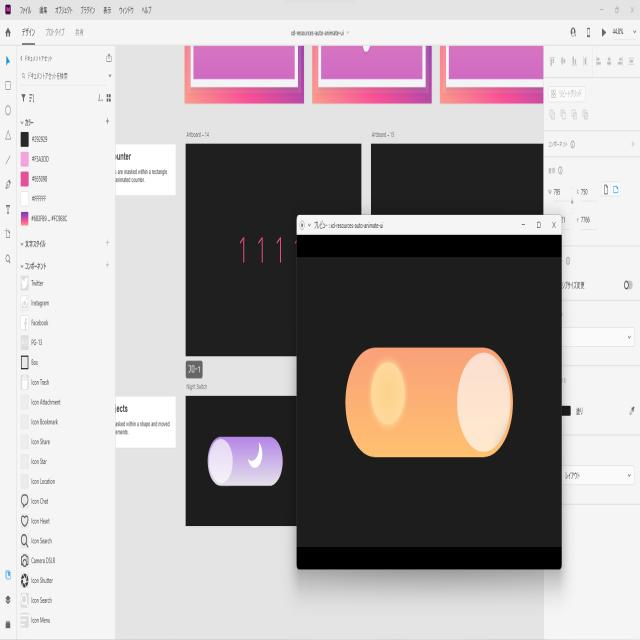toggle: (340, 344, 514, 464), (207, 434, 286, 489)
